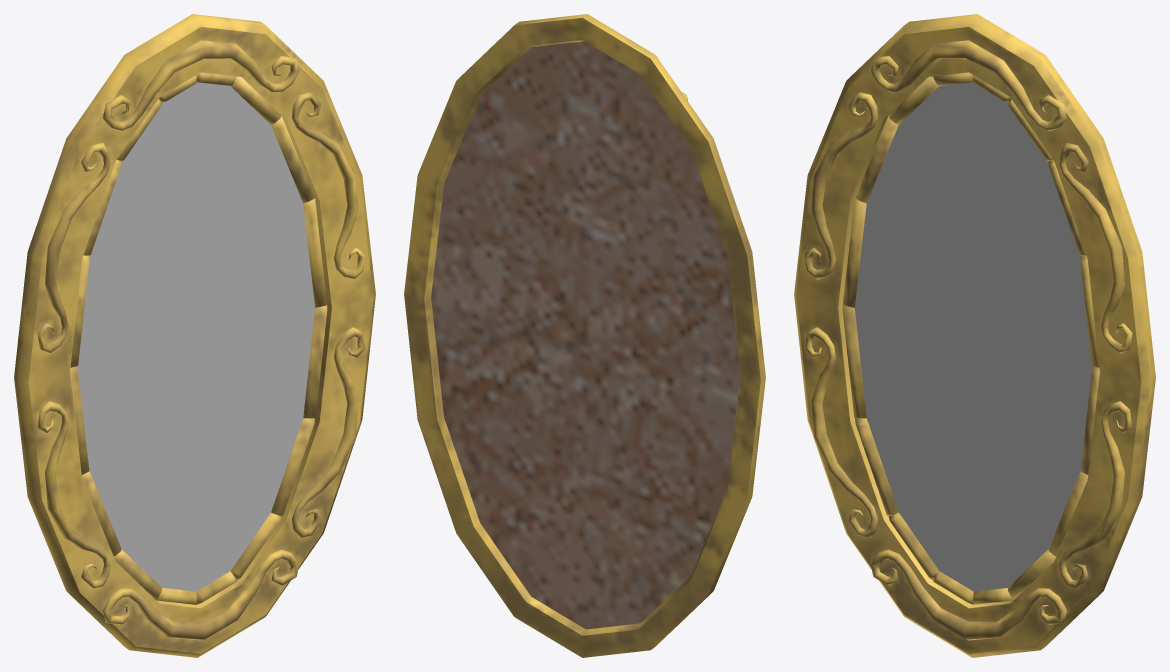
File: Mirror.fbx
The picture shows the model from 3 angles, left to right: view 1: azimuth 30°, elevation 25°; view 2: azimuth 150°, elevation 25°; view 3: azimuth 330°, elevation 25°; orthographic projection.
Parts seen in each view (by area): view 1: Cylinder; view 2: Cylinder; view 3: Cylinder.
Boxes of the visible parts, x1,y1,x2,y2 form: Cylinder: (14, 14, 375, 657); Cylinder: (404, 14, 765, 657); Cylinder: (794, 14, 1155, 657).
Size of the model in its own units: 58.32 by 100 by 3.71.
